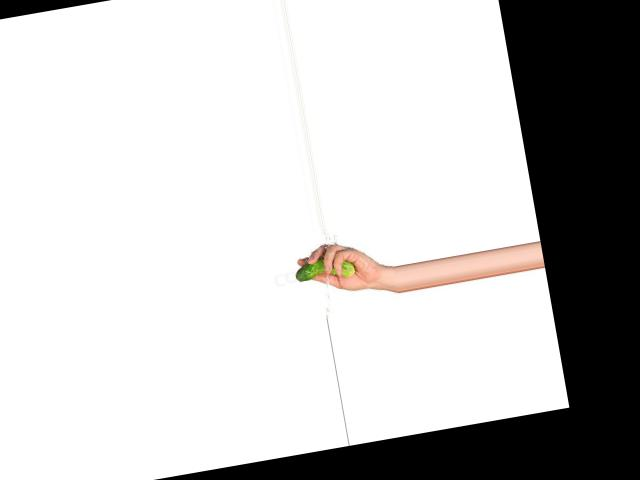cucumber: (293, 253, 356, 284)
